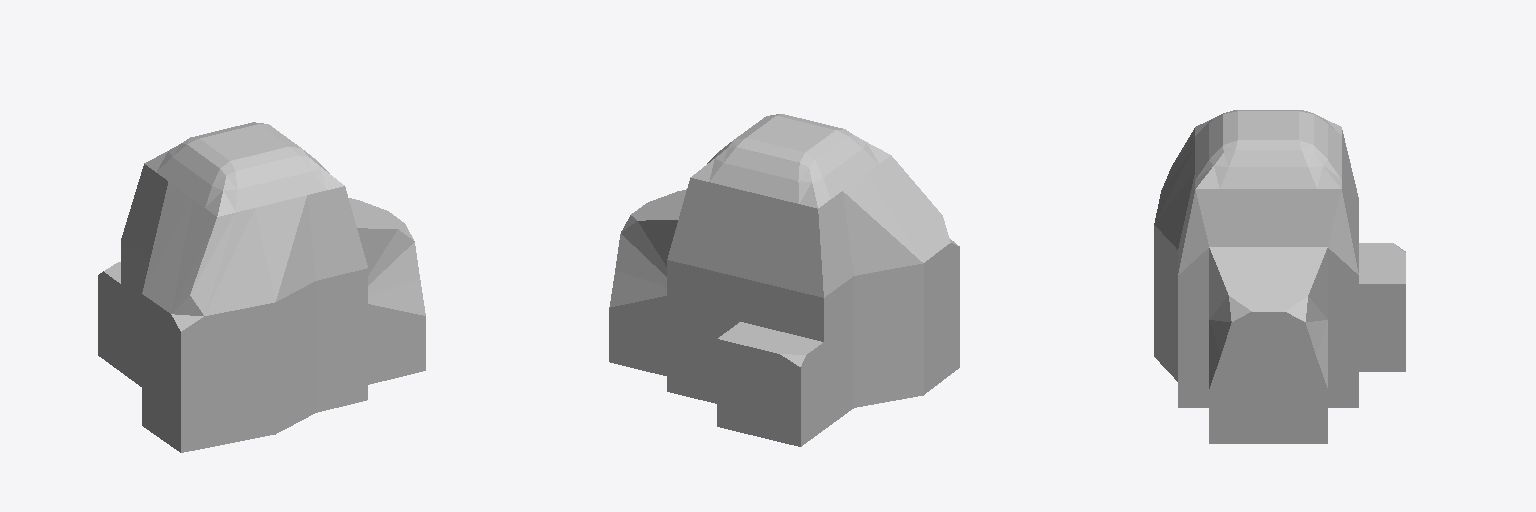
Rendered from Stone.obj.
3 views of the same model, side by side, from view 1: azimuth 30°, elevation 25°; view 2: azimuth 150°, elevation 25°; view 3: azimuth 270°, elevation 25° (orthographic).
Visible parts, largest first — view 1: Stone:Stone1_Untitled; view 2: Stone:Stone1_Untitled; view 3: Stone:Stone1_Untitled.
Boxes of the visible parts, <box> form: Stone:Stone1_Untitled: <box>98,122,425,452</box>; Stone:Stone1_Untitled: <box>609,114,959,446</box>; Stone:Stone1_Untitled: <box>1154,110,1405,443</box>.
Bounding box in the file's own units: 1.72 × 1.49 × 1.39.